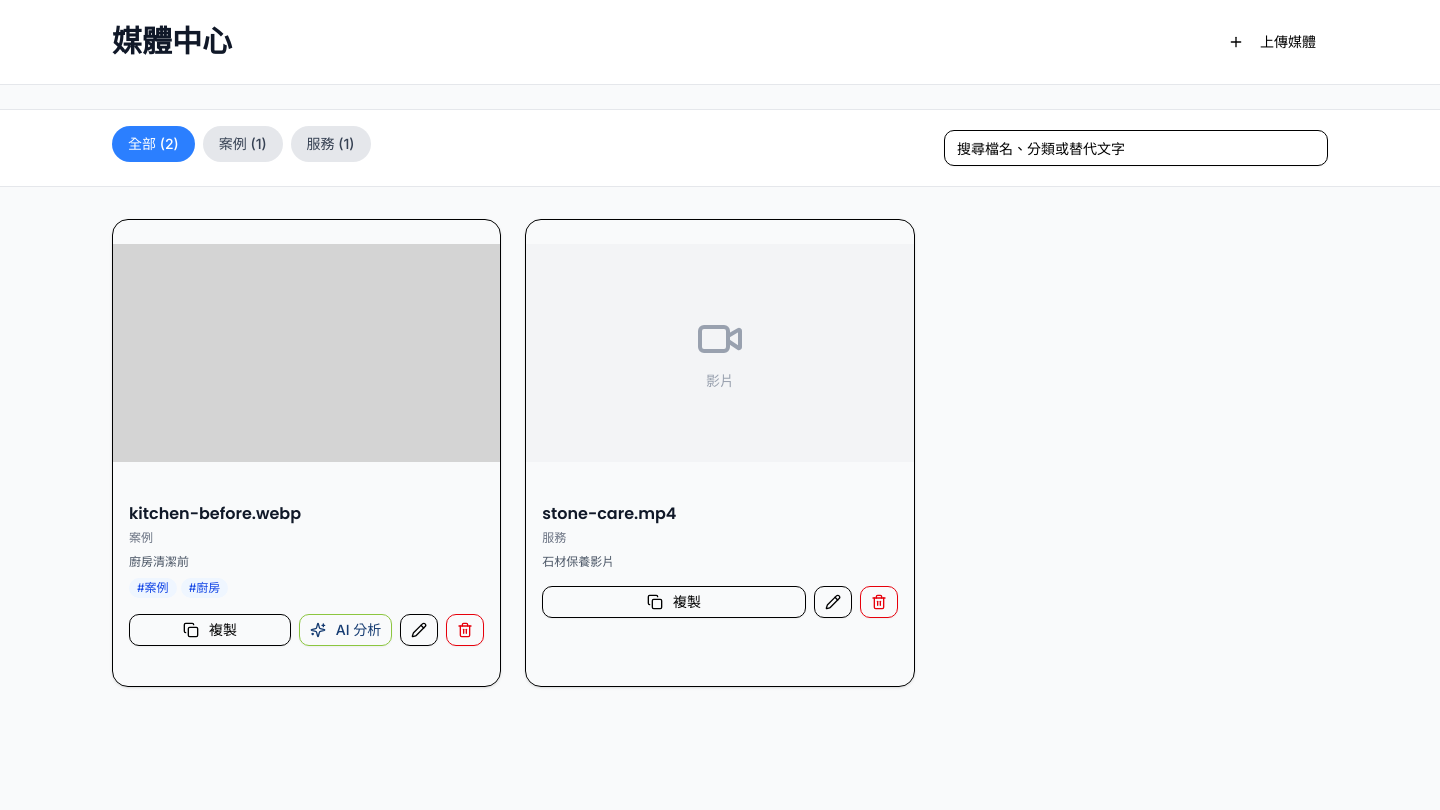
it: CMSMedia 管理介面 › 管理員可更新媒體名稱、替代文字與標籤
Click the button named "編輯 kitchen-before.webp". click: (419, 630)
box: [400,614,438,646]
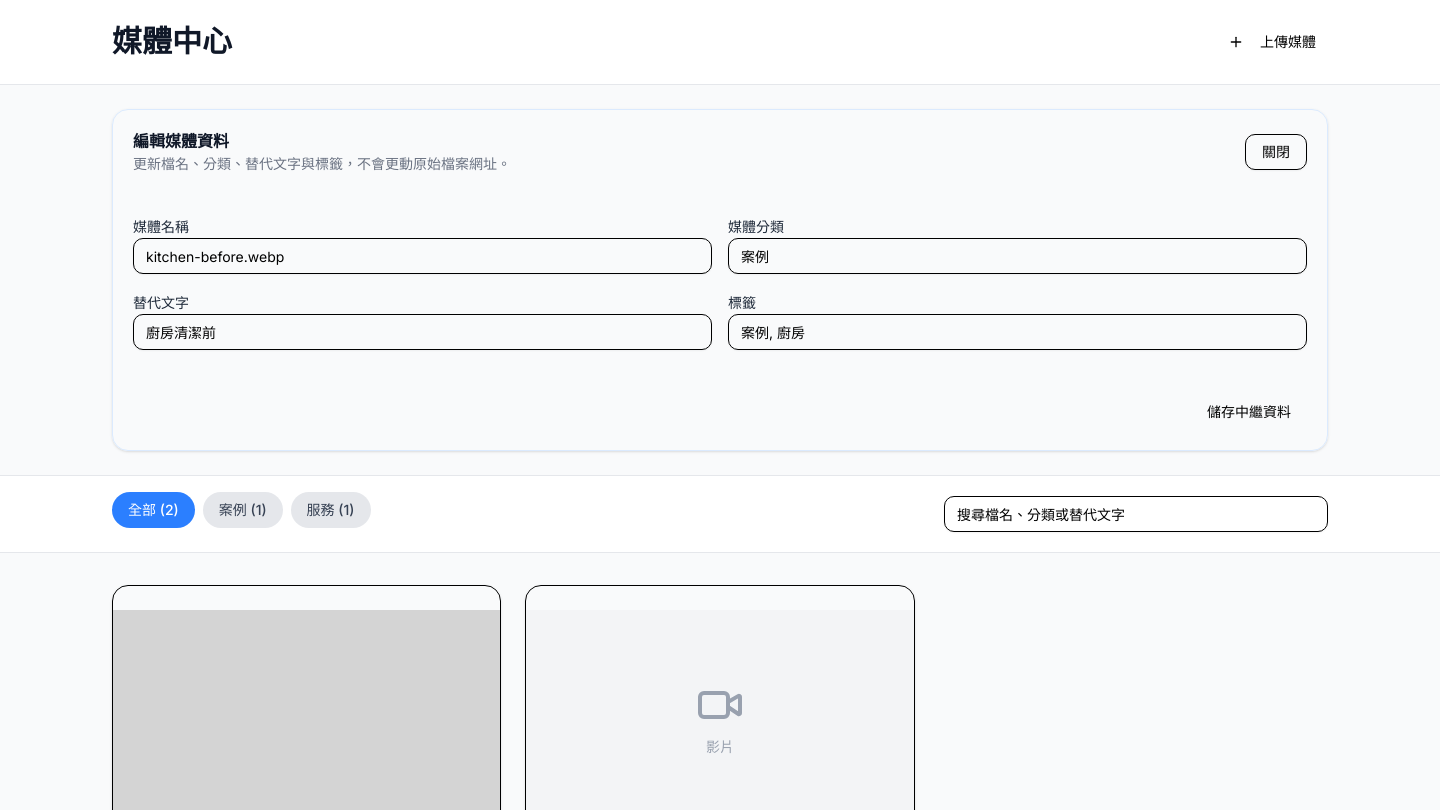
Replace the text in the field labelled "媒體名稱" with "kitchen-after.webp". click: (422, 256)
box: [133,238,712,274]
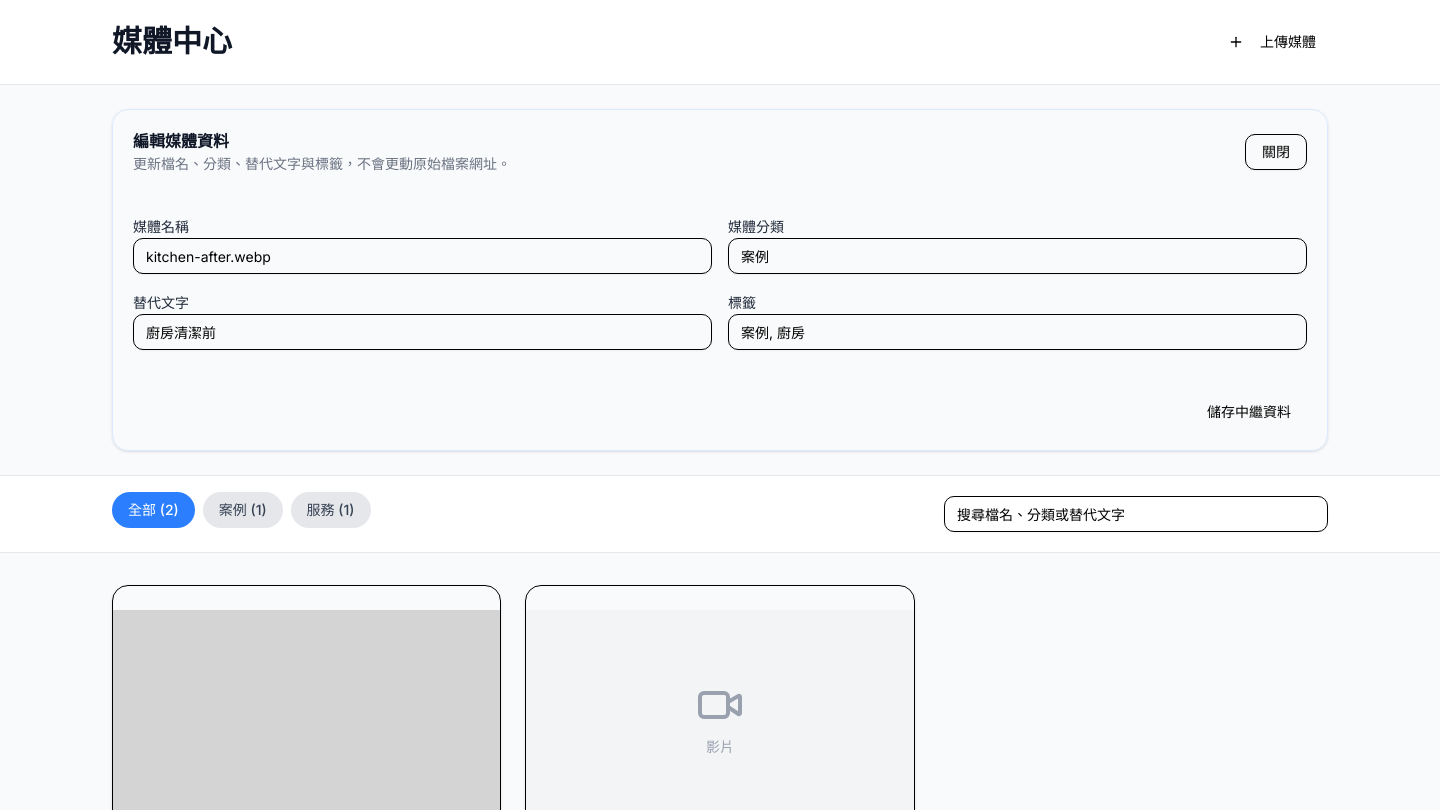
Replace the text in the field labelled "替代文字" with "完成後的廚房清潔". click: (422, 332)
box: [133,314,712,350]
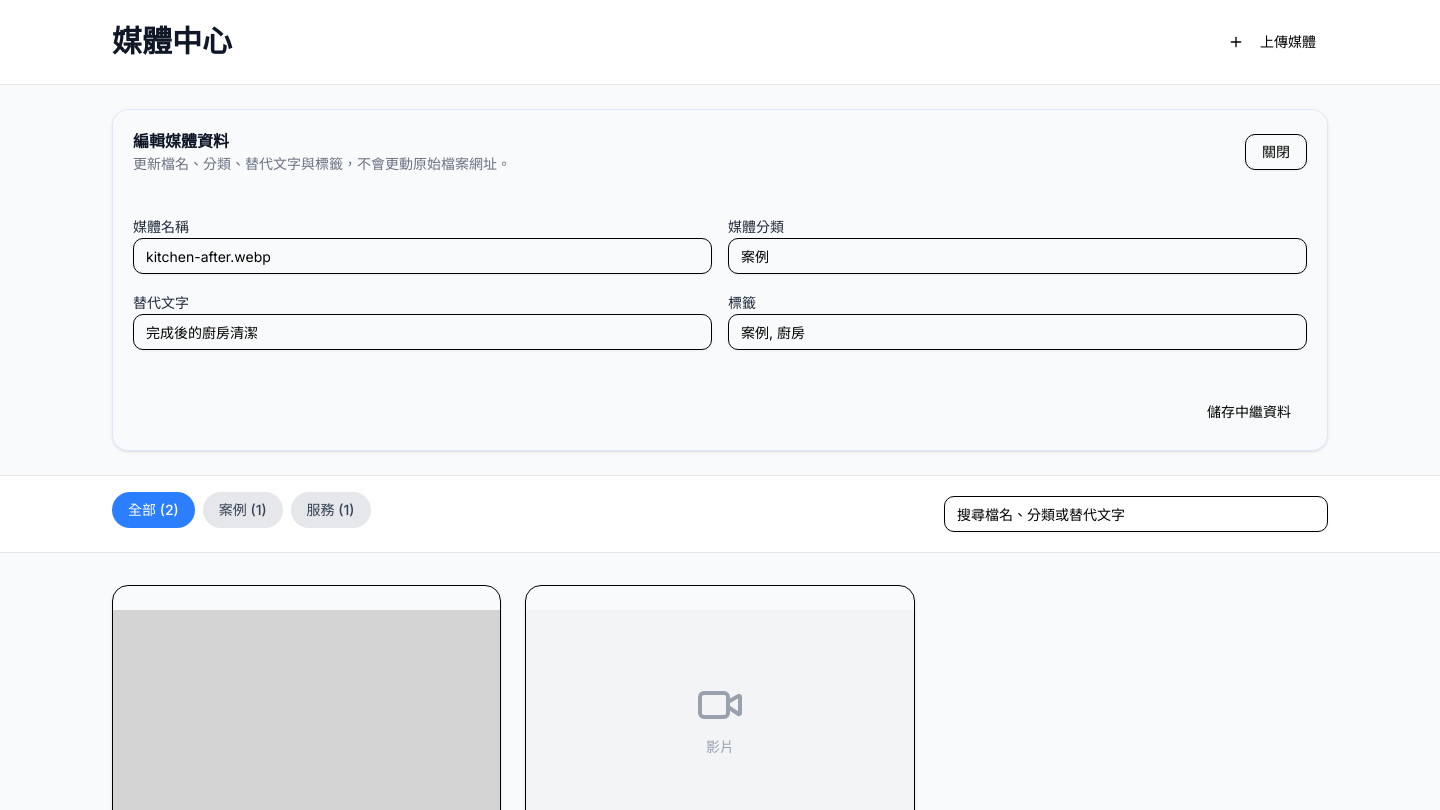
Replace the text in the field labelled "標籤" with "案例, 完工, 廚房". click: (1018, 332)
box: [728,314,1307,350]
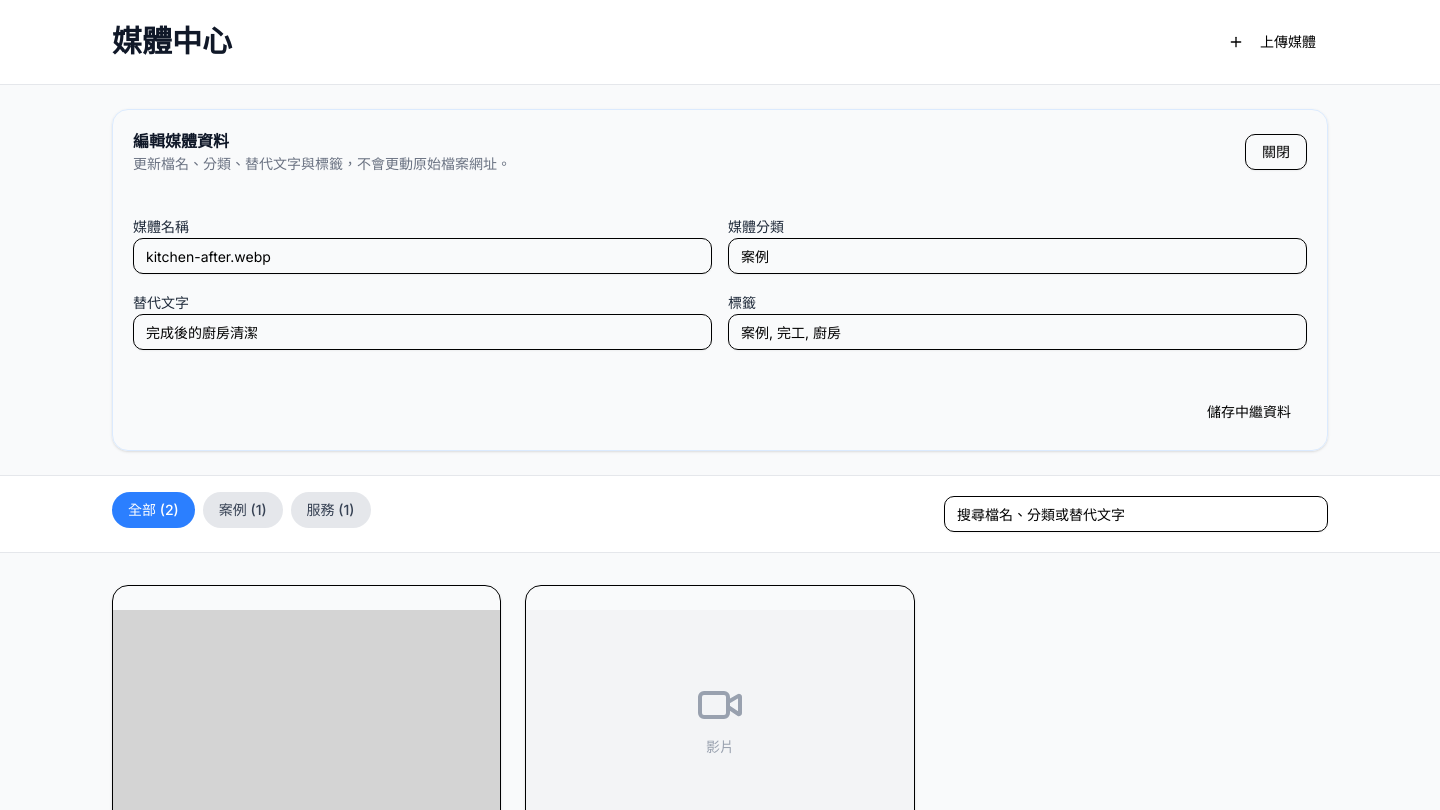
Click the button "儲存中繼資料". click: (1249, 412)
box: [1191,394,1307,430]
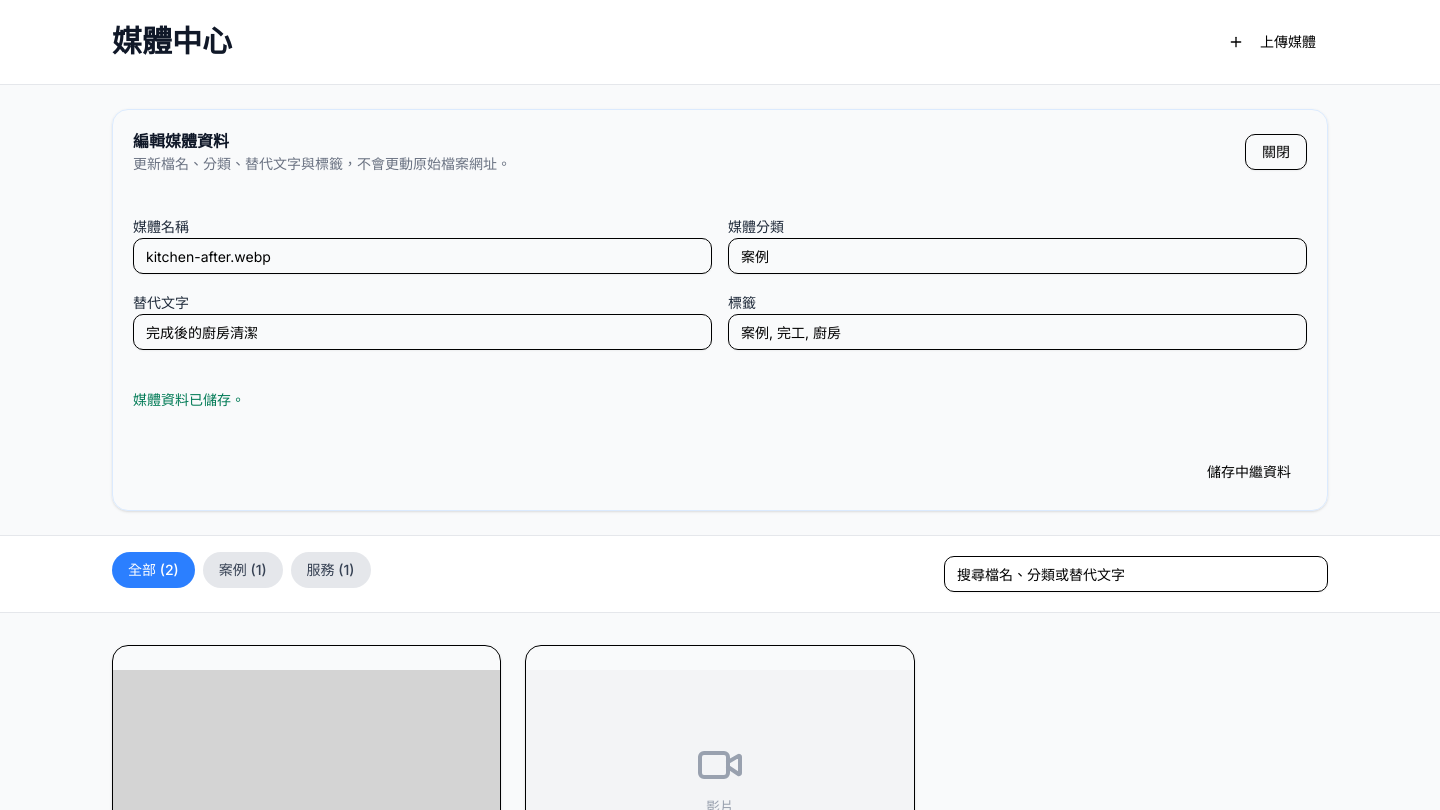
expect the text "媒體資料已儲存。" is shown: met, box [133,391,245,408]
